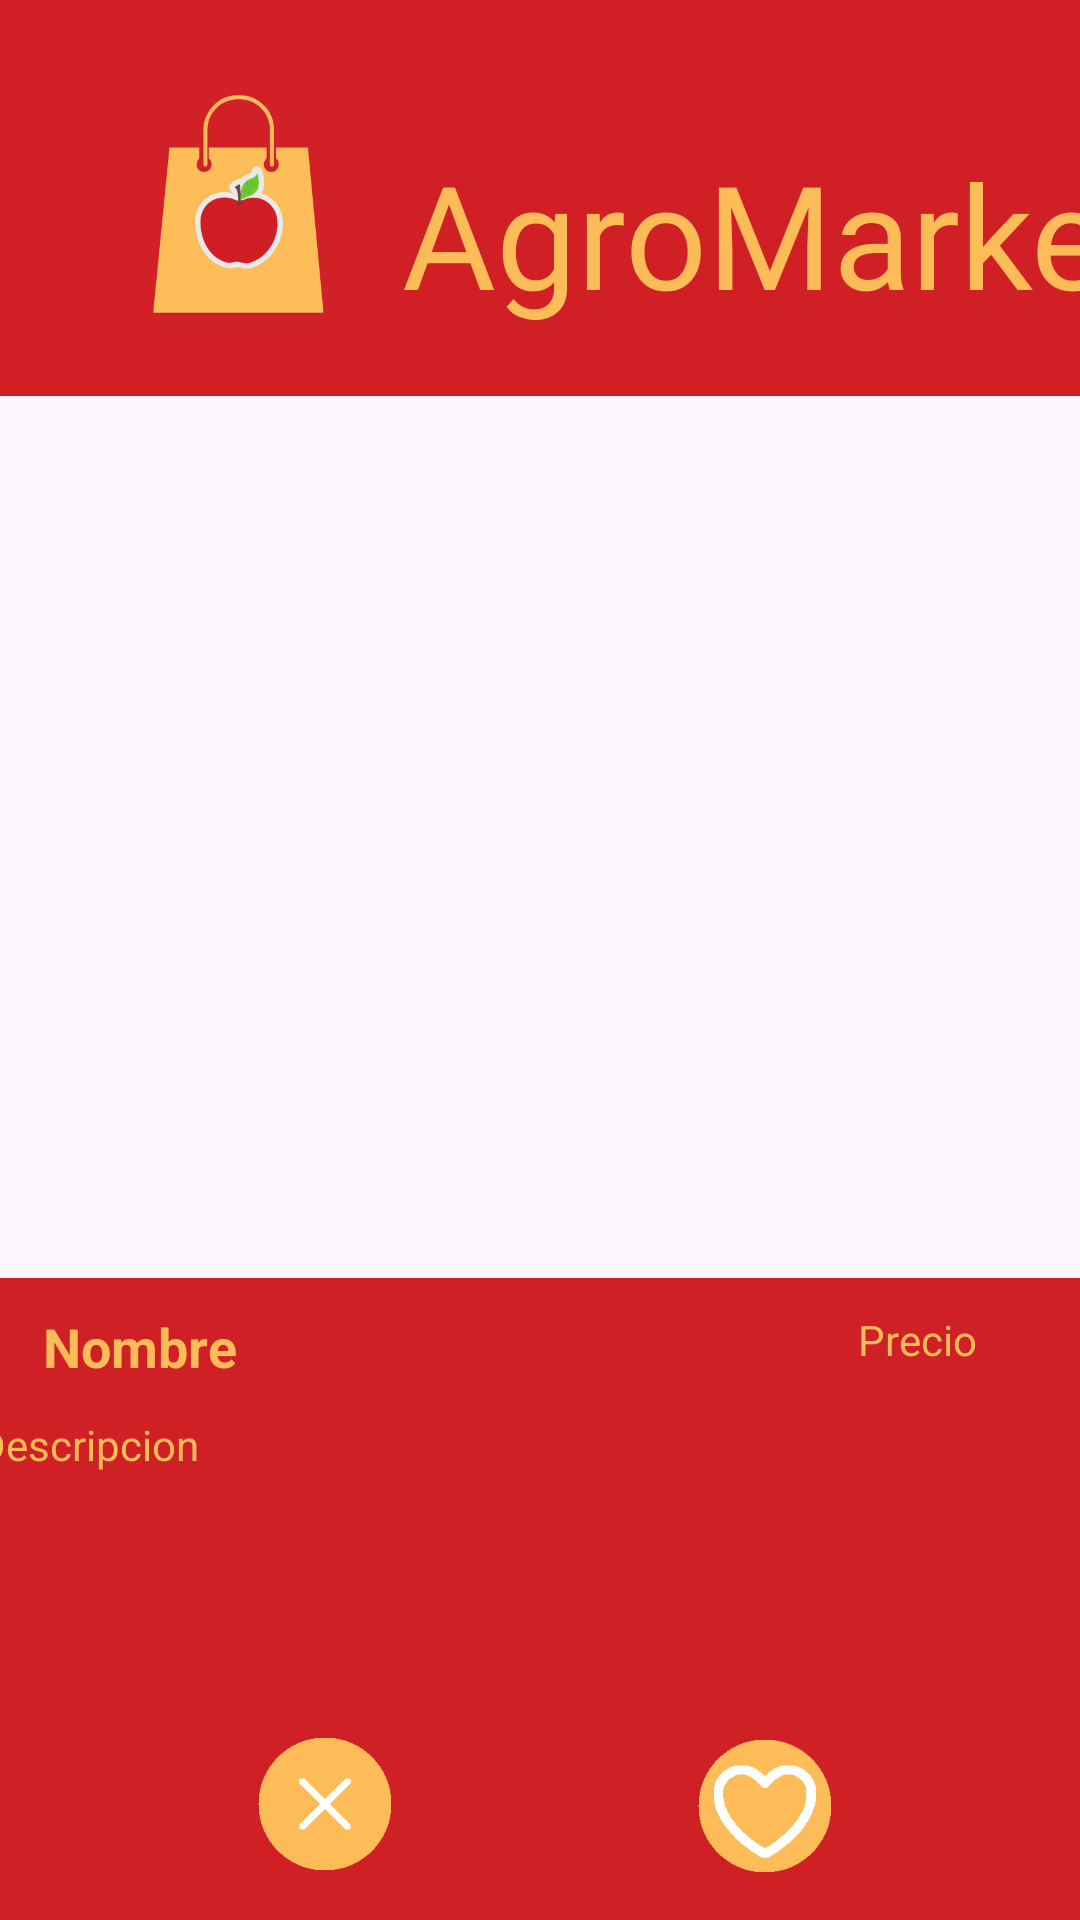

Named icons in this screenshot (1080 × 1920) and their centers, (x,y):
hearth: (764,1806)
